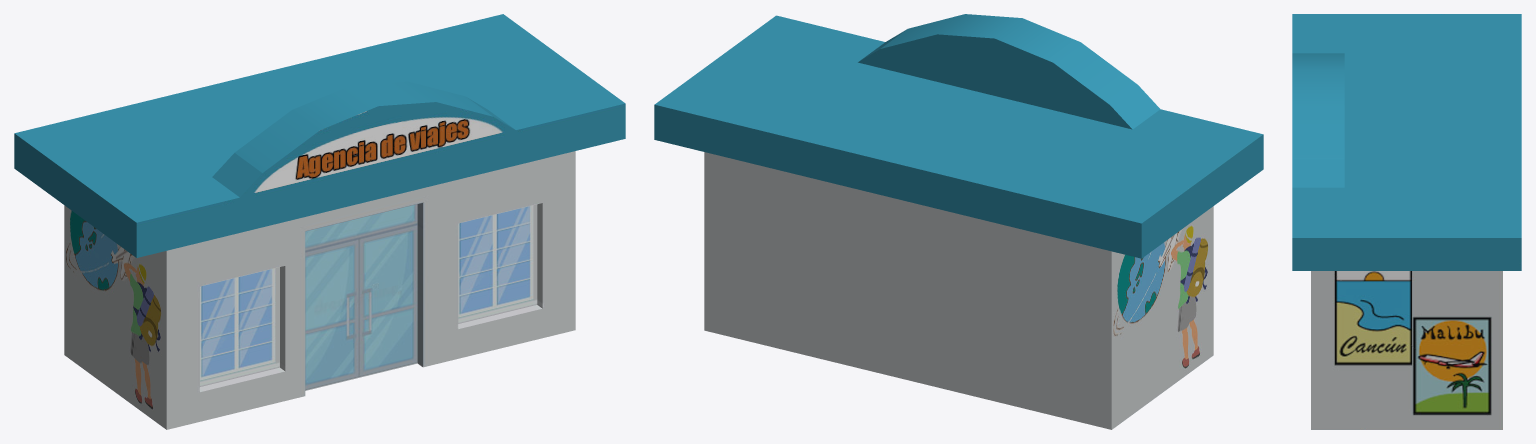
Rendered from agenciaViajes.fbx.
The picture shows the model from 3 angles, left to right: view 1: azimuth 30°, elevation 25°; view 2: azimuth 150°, elevation 25°; view 3: azimuth 270°, elevation 25°; orthographic projection. The views are drawn at different scales.
Parts seen in each view (by area): view 1: pCube9; view 2: pCube9; view 3: pCube9.
Boxes of the visible parts, x1,y1,x2,y2 form: pCube9: (14,14,625,429); pCube9: (654,14,1263,429); pCube9: (1292,14,1521,429).
Size of the model in its own units: 169 by 92.88 by 73.04.
1 material, 1 textured.
